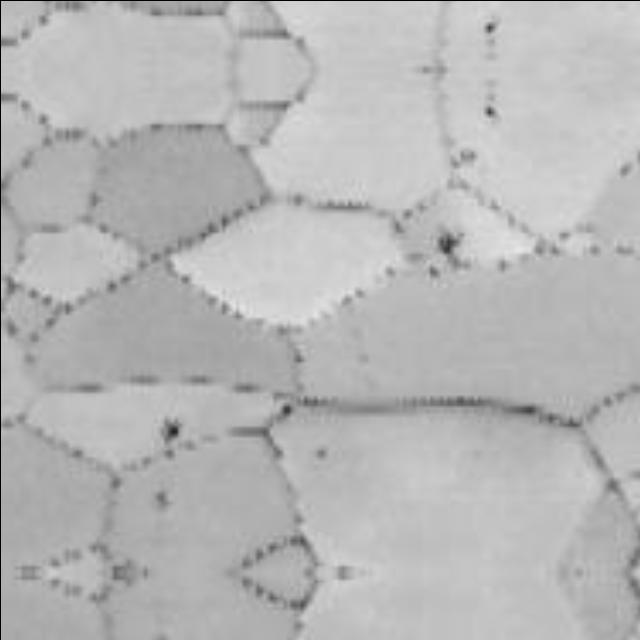good_void: (430, 229, 466, 266), (145, 414, 180, 445), (148, 483, 173, 511), (476, 103, 503, 121), (476, 15, 503, 33), (311, 444, 327, 459)
